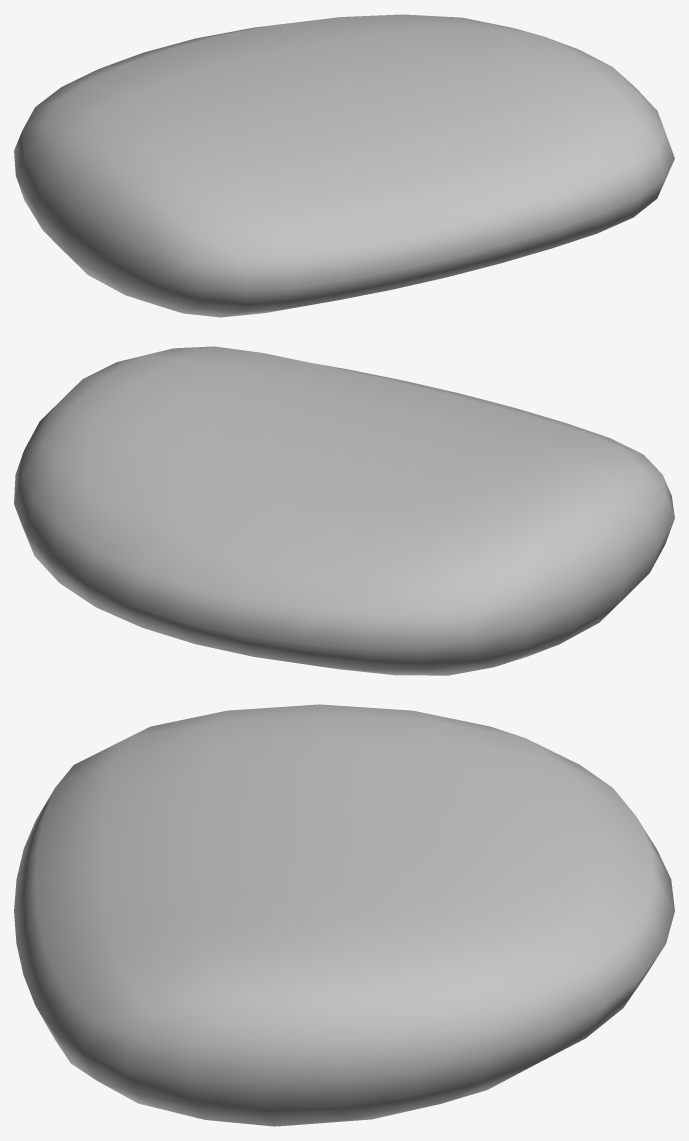
Rendered from Farm_17_Stone_3.glb.
The picture shows the model from 3 angles, top to bottom: view 1: azimuth 30°, elevation 25°; view 2: azimuth 150°, elevation 25°; view 3: azimuth 270°, elevation 25°; orthographic projection. The views are drawn at different scales.
Visible parts, largest first — view 1: Farm_17_Stone_3; view 2: Farm_17_Stone_3; view 3: Farm_17_Stone_3.
Part boxes in pixels (bbox=[...]): Farm_17_Stone_3: bbox=[14, 14, 674, 317]; Farm_17_Stone_3: bbox=[14, 346, 674, 675]; Farm_17_Stone_3: bbox=[14, 704, 674, 1126].
Size of the model in its own units: 1.08 by 0.2519 by 0.9061.
1 material, 1 textured.
